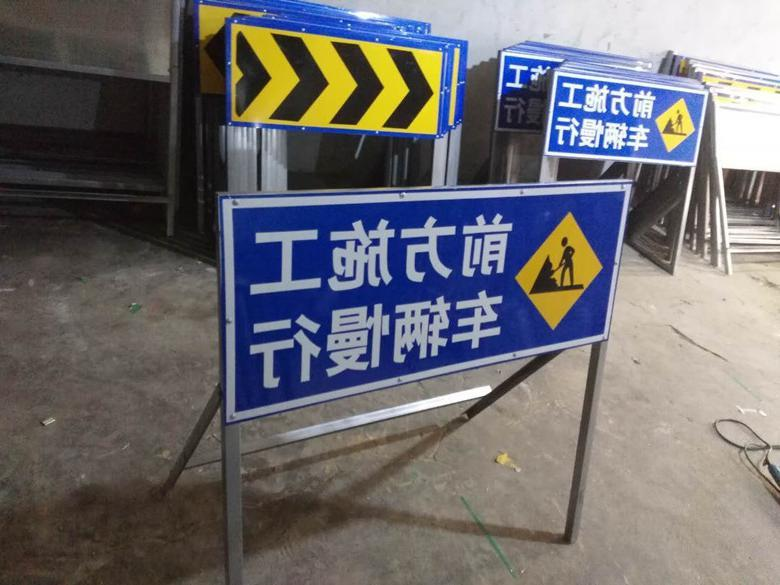sign: (213, 183, 626, 416), (222, 18, 454, 150), (542, 69, 711, 160)
